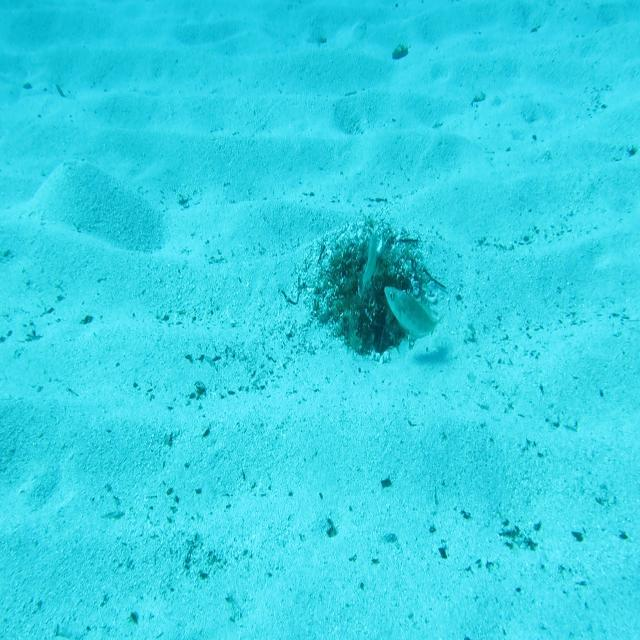BEND: (384, 282, 442, 344)
female: (356, 228, 382, 302)
nest: (314, 218, 443, 370)
